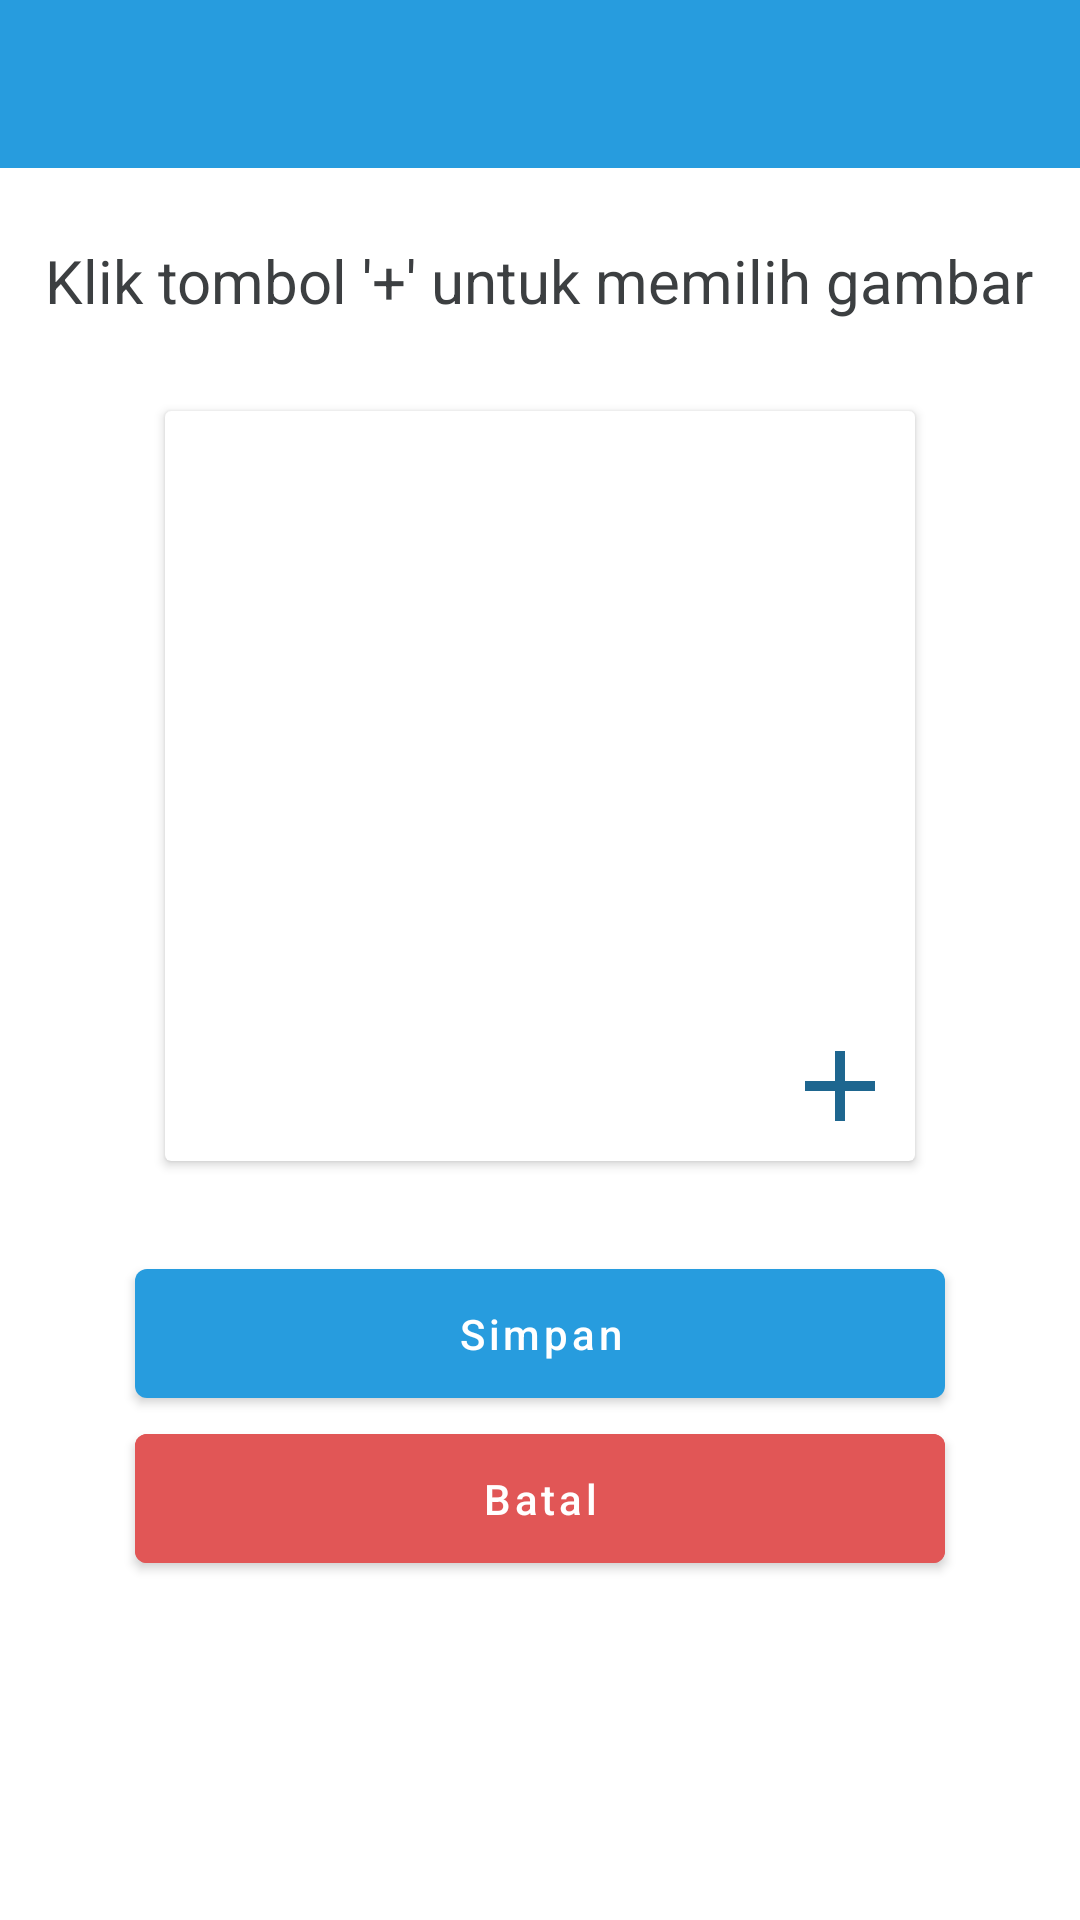

Where icons sit on this 1080x1920 app screen, as (x1, y1, x2, y2):
add: (805, 1051, 875, 1121)
